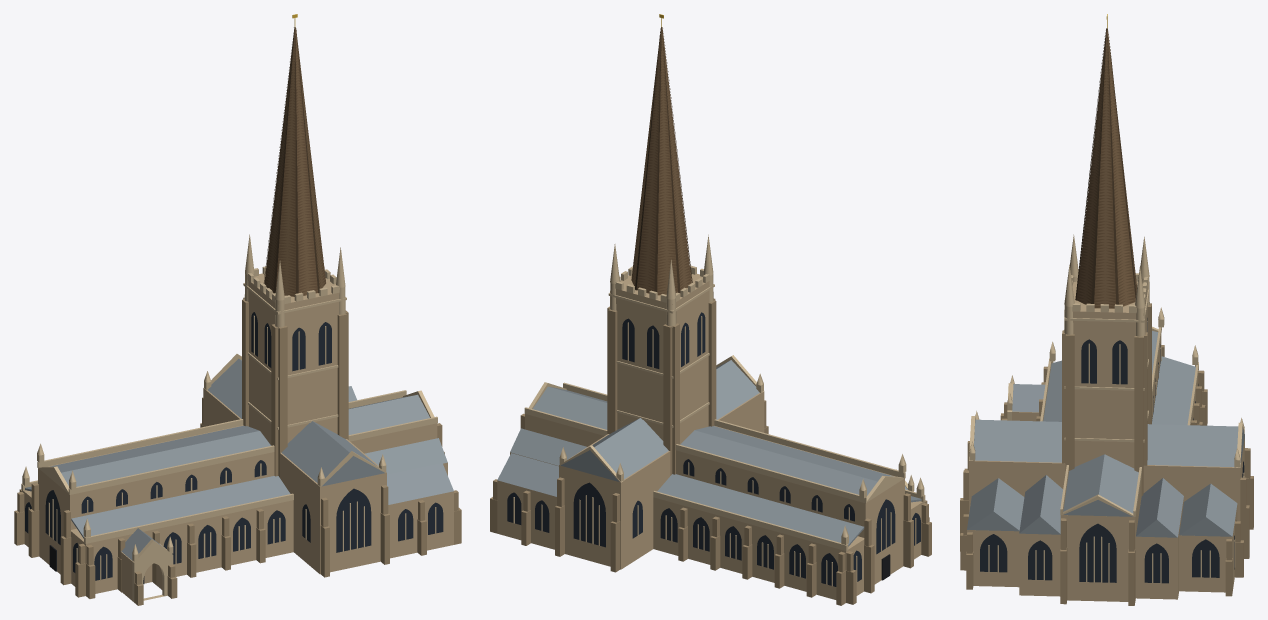
Rendered from crooked-spire-b40.glb.
3 renders of one model, left to right at view 1: azimuth 30°, elevation 25°; view 2: azimuth 150°, elevation 25°; view 3: azimuth 270°, elevation 25°, orthographic. The views are drawn at different scales.
Bounding box in the file's own units: 5.56 × 7.13 × 3.62.
